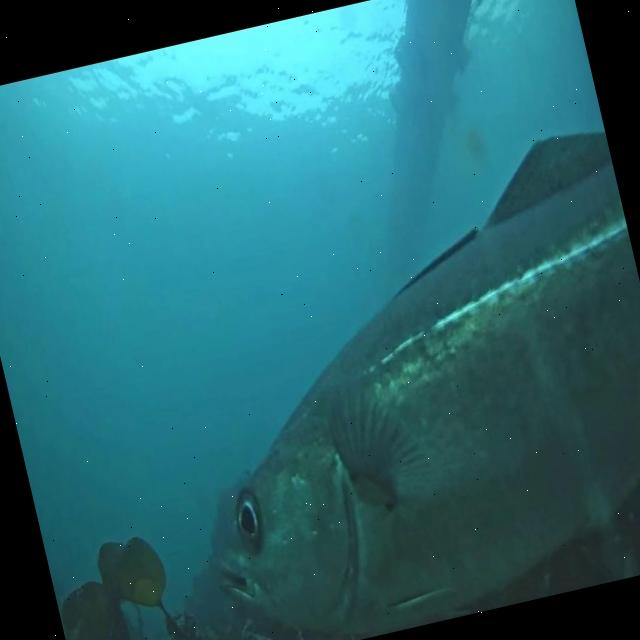fish: (128, 120, 640, 640)
